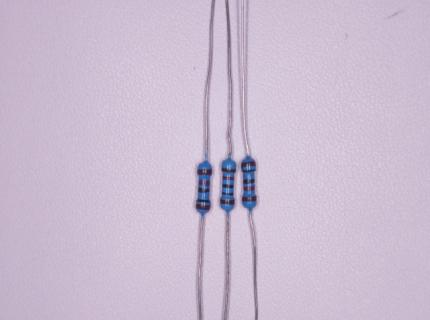Black band: (195, 198, 210, 204), (198, 187, 210, 194), (242, 168, 256, 174), (242, 179, 255, 184), (221, 191, 234, 196), (222, 183, 234, 188)
Brown band: (241, 160, 257, 168), (195, 203, 211, 211), (241, 195, 257, 202), (197, 168, 212, 175), (220, 198, 235, 205), (221, 167, 236, 173)
Red band: (243, 186, 255, 192), (198, 180, 210, 186), (222, 175, 234, 180)
